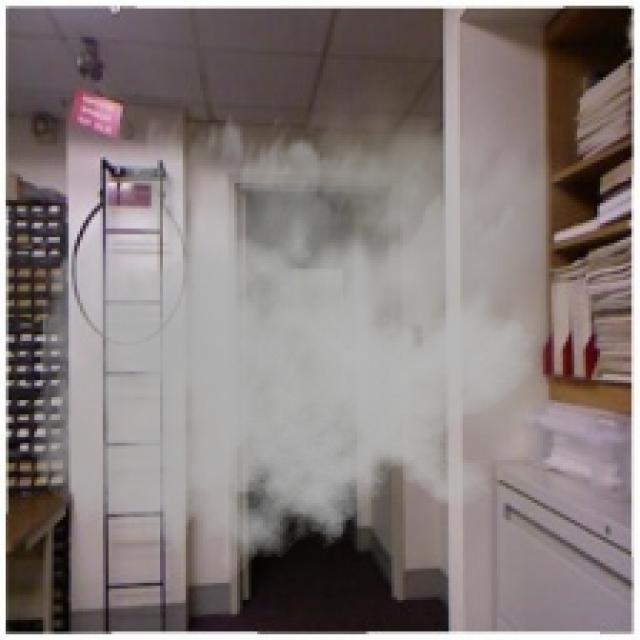Smoke: (28, 55, 586, 594)
